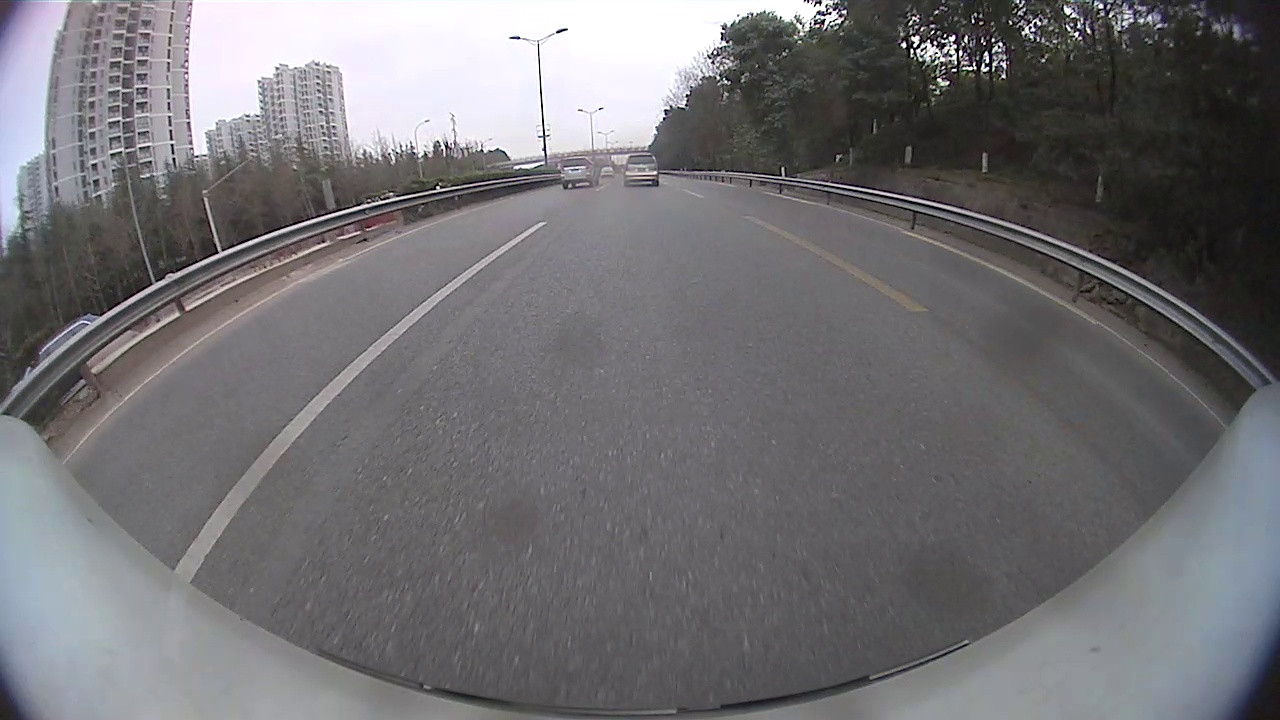car: (10, 314, 101, 398), (558, 156, 600, 190), (624, 153, 659, 187)
